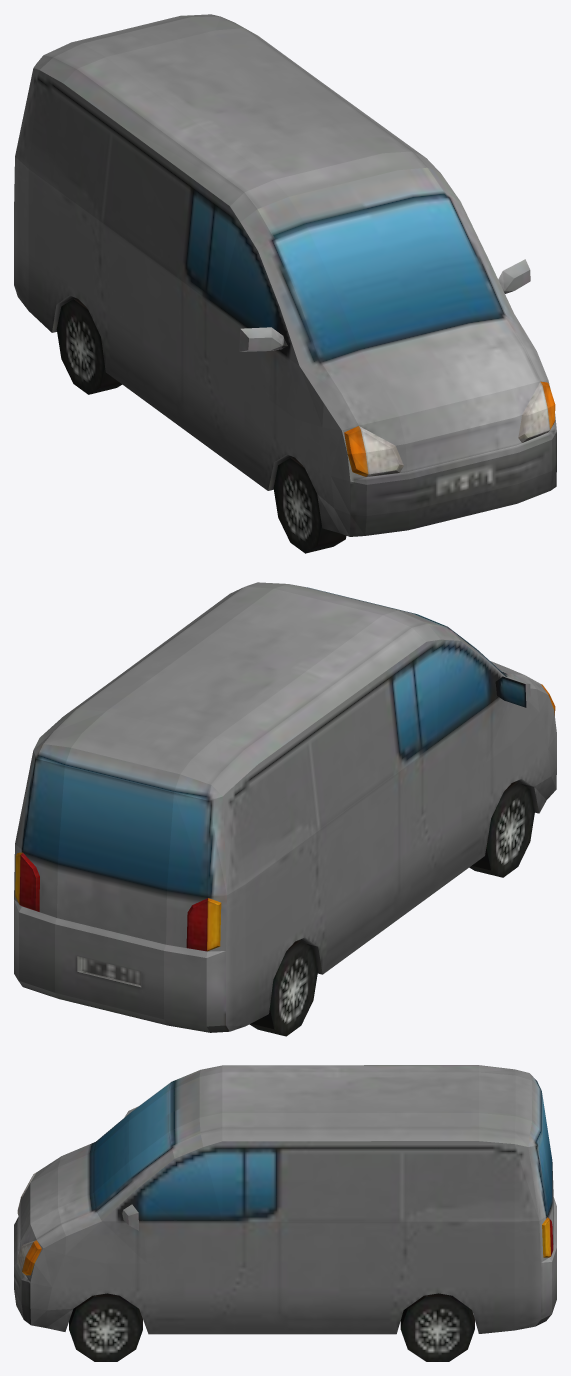
3 renders of one model, top to bottom at view 1: azimuth 30°, elevation 25°; view 2: azimuth 150°, elevation 25°; view 3: azimuth 270°, elevation 25°, orthographic. The views are drawn at different scales.
Visible parts, largest first — view 1: Asset3DLoader.sceneRoot; view 2: Asset3DLoader.sceneRoot; view 3: Asset3DLoader.sceneRoot.
Part boxes in pixels (bbox=[...]): Asset3DLoader.sceneRoot: bbox=[14, 14, 556, 553]; Asset3DLoader.sceneRoot: bbox=[14, 582, 556, 1036]; Asset3DLoader.sceneRoot: bbox=[14, 1065, 556, 1361].
Bounding box in the file's own units: 1.17 × 1.17 × 2.5.
1 material, 1 textured.
